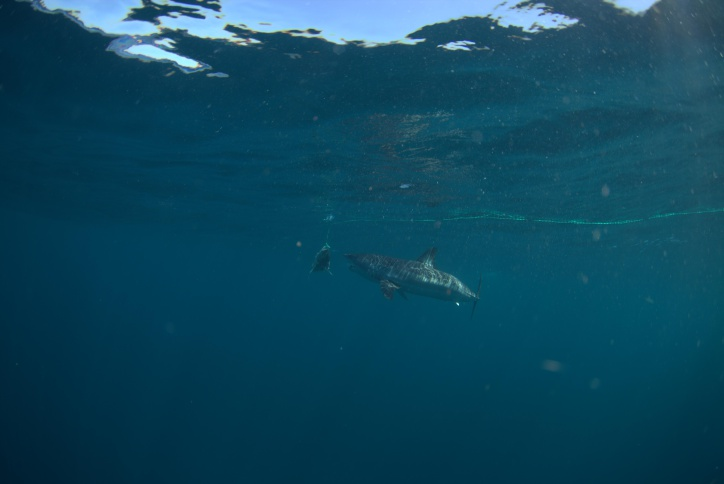Mako: (341, 241, 489, 318)
